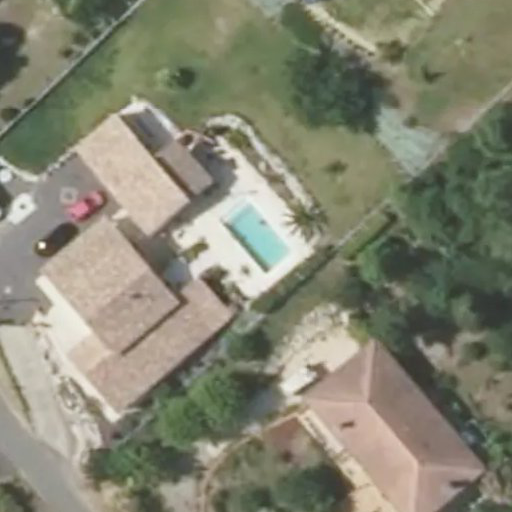pool: (217, 225, 294, 257)
